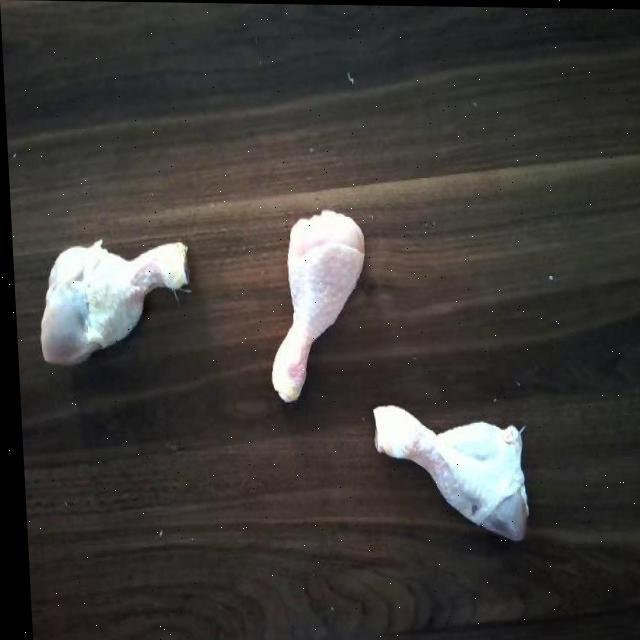leg: (364, 386, 533, 542), (244, 205, 374, 402), (30, 235, 190, 380)
